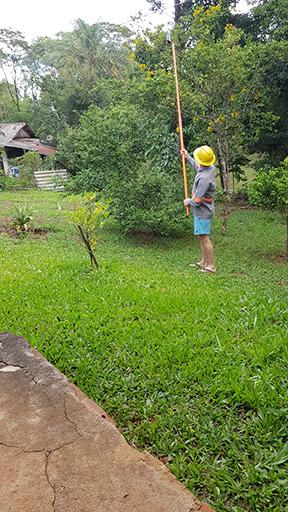Capacete: (193, 144, 216, 170)
Vara_Manobra: (171, 42, 190, 217)
